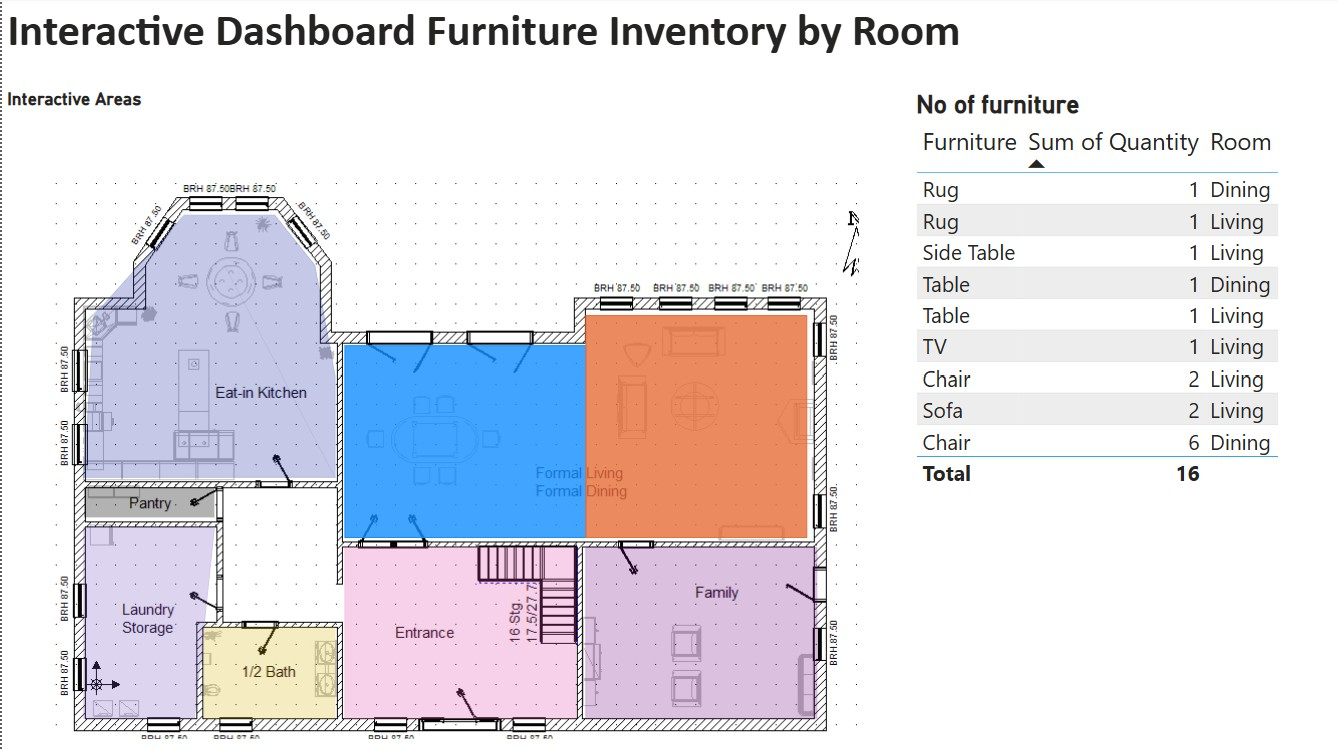

Layout of this report page (visuals, bound fields, positions):
{"tool":"powerbi","page":{"name":"Page 1","canvas":[1280,720],"ordinal":0},"visuals":[{"type":"tableEx","title":"No of furniture","fields":{"Values":["Furniture.Furniture","Sum(Rooms.Quantity)","Rooms.Room"]},"box":[869.3,88.2,394.1,634.1],"z":0},{"type":"PBI_CV_815282F9_27F5_4950_9430_E910E0A8DB6A","title":"Interactive Areas","fields":{"Category":["Rooms.Room"],"Y":["Sum(Rooms.Quantity)"]},"box":[0,88.2,830.5,631.7],"z":1000},{"type":"textbox","box":[0,0,1279.9,88.2],"z":2000}]}

Visuals, with their boxes in screenshot pixels (x1, y1, x2, y2), scaled from the page's 1280x720 canvas onto the 1338x750 screenshot:
"No of furniture" tableEx: l=909, t=92, r=1321, b=749
"Interactive Areas" PBI_CV_815282F9_27F5_4950_9430_E910E0A8DB6A: l=0, t=92, r=868, b=749
textbox: l=0, t=0, r=1337, b=92
